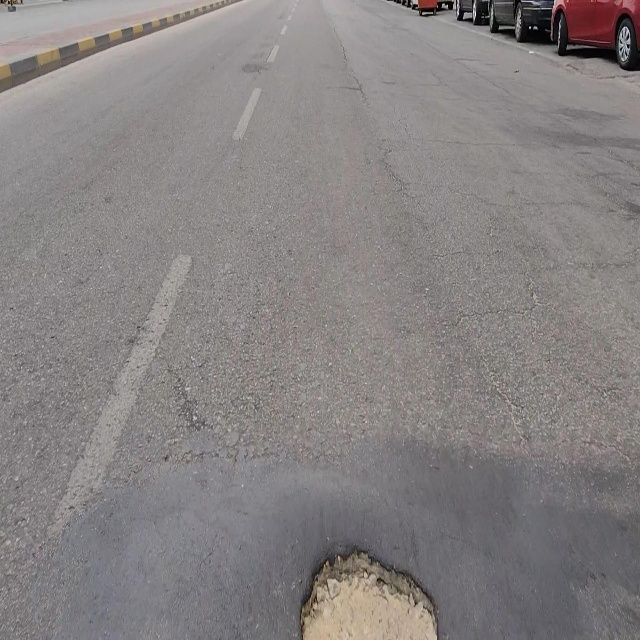pothole: (300, 542, 439, 639)
